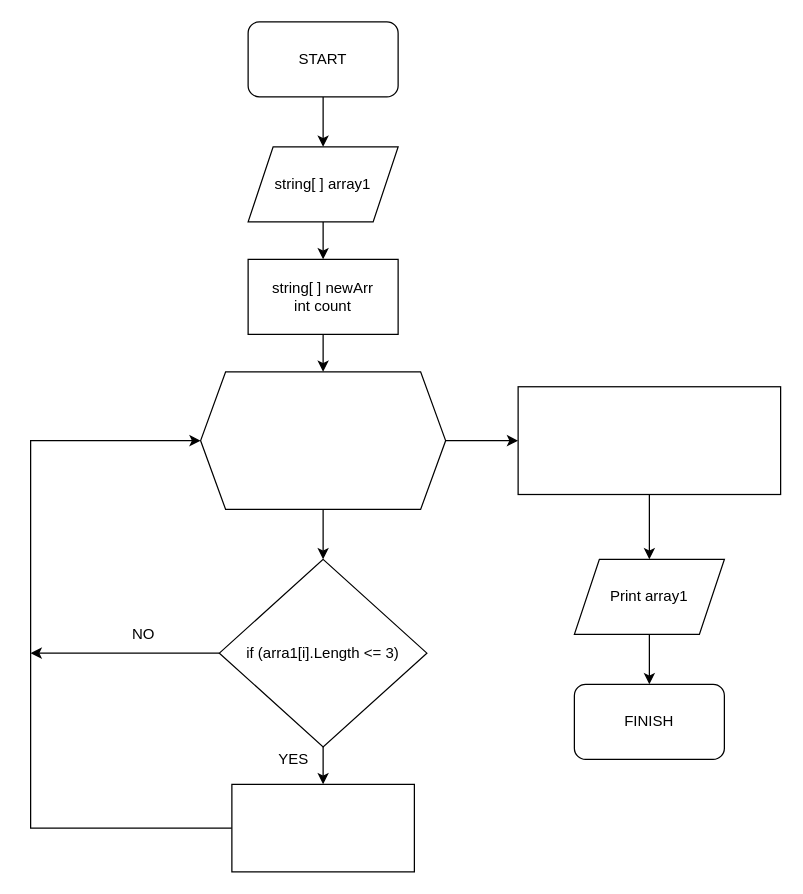
Some shapes in this 803 by 894 pixel diagram are drawn without their labels. Each missing label, with the centre of its shape:
"for ( int i = 0 ; i < array1 . Length ; i ++ )" goes at pixel 322 440.
"newArr = newArr.SkipLast(array1.Length-count).ToArray(); array1 = newArr;" goes at pixel 649 440.
"newArr[count] = array1[i]; count++;" goes at pixel 322 827.
